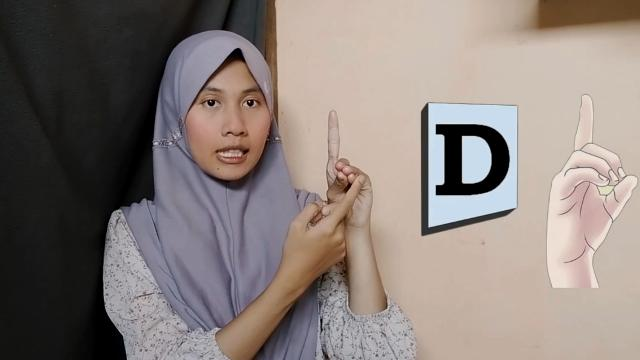D: (326, 112, 376, 224)
